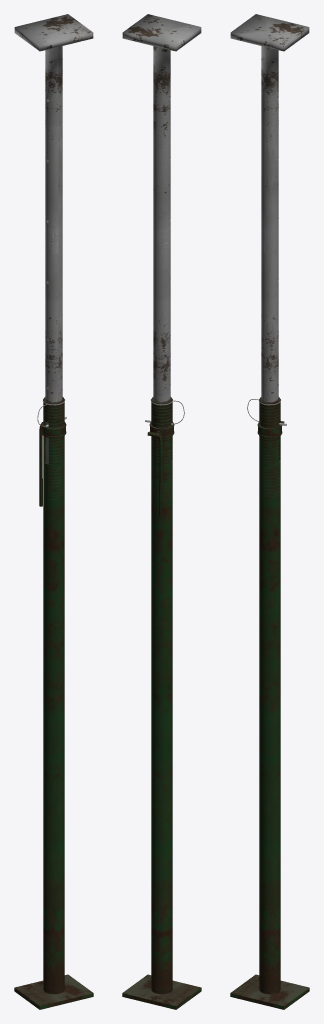
The model's file is shore-post-steel.glb.
The picture shows the model from 3 angles, left to right: view 1: azimuth 30°, elevation 25°; view 2: azimuth 150°, elevation 25°; view 3: azimuth 330°, elevation 25°; orthographic projection.
Parts seen in each view (by area): view 1: Acrow_bottom, Acrow_top; view 2: Acrow_bottom, Acrow_top; view 3: Acrow_bottom, Acrow_top.
Boxes of the visible parts, left/top/right/bottom form: Acrow_bottom: left=14, top=397, right=93, bottom=1009; Acrow_top: left=14, top=14, right=93, bottom=463; Acrow_bottom: left=122, top=397, right=201, bottom=1009; Acrow_top: left=122, top=14, right=201, bottom=402; Acrow_bottom: left=230, top=397, right=309, bottom=1009; Acrow_top: left=230, top=14, right=309, bottom=402.
Size of the model in its own units: 0.293 by 5.01 by 0.2402.
1 material, 1 textured.
